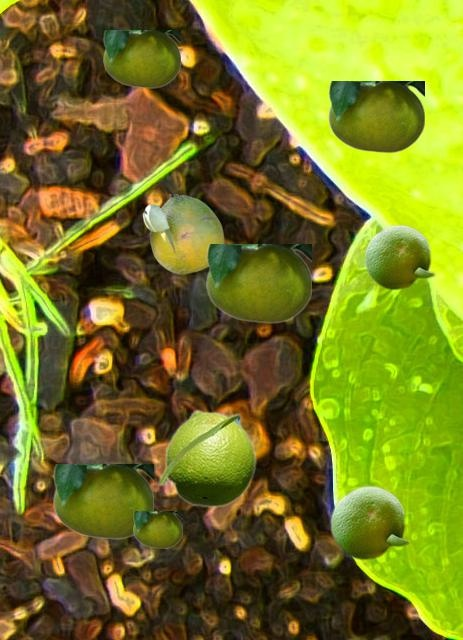dalandan: (157, 409, 256, 507), (206, 244, 310, 322), (53, 464, 152, 538), (328, 81, 423, 152), (142, 194, 223, 273), (329, 484, 410, 559), (363, 223, 435, 289), (103, 30, 179, 87), (133, 511, 181, 547)
